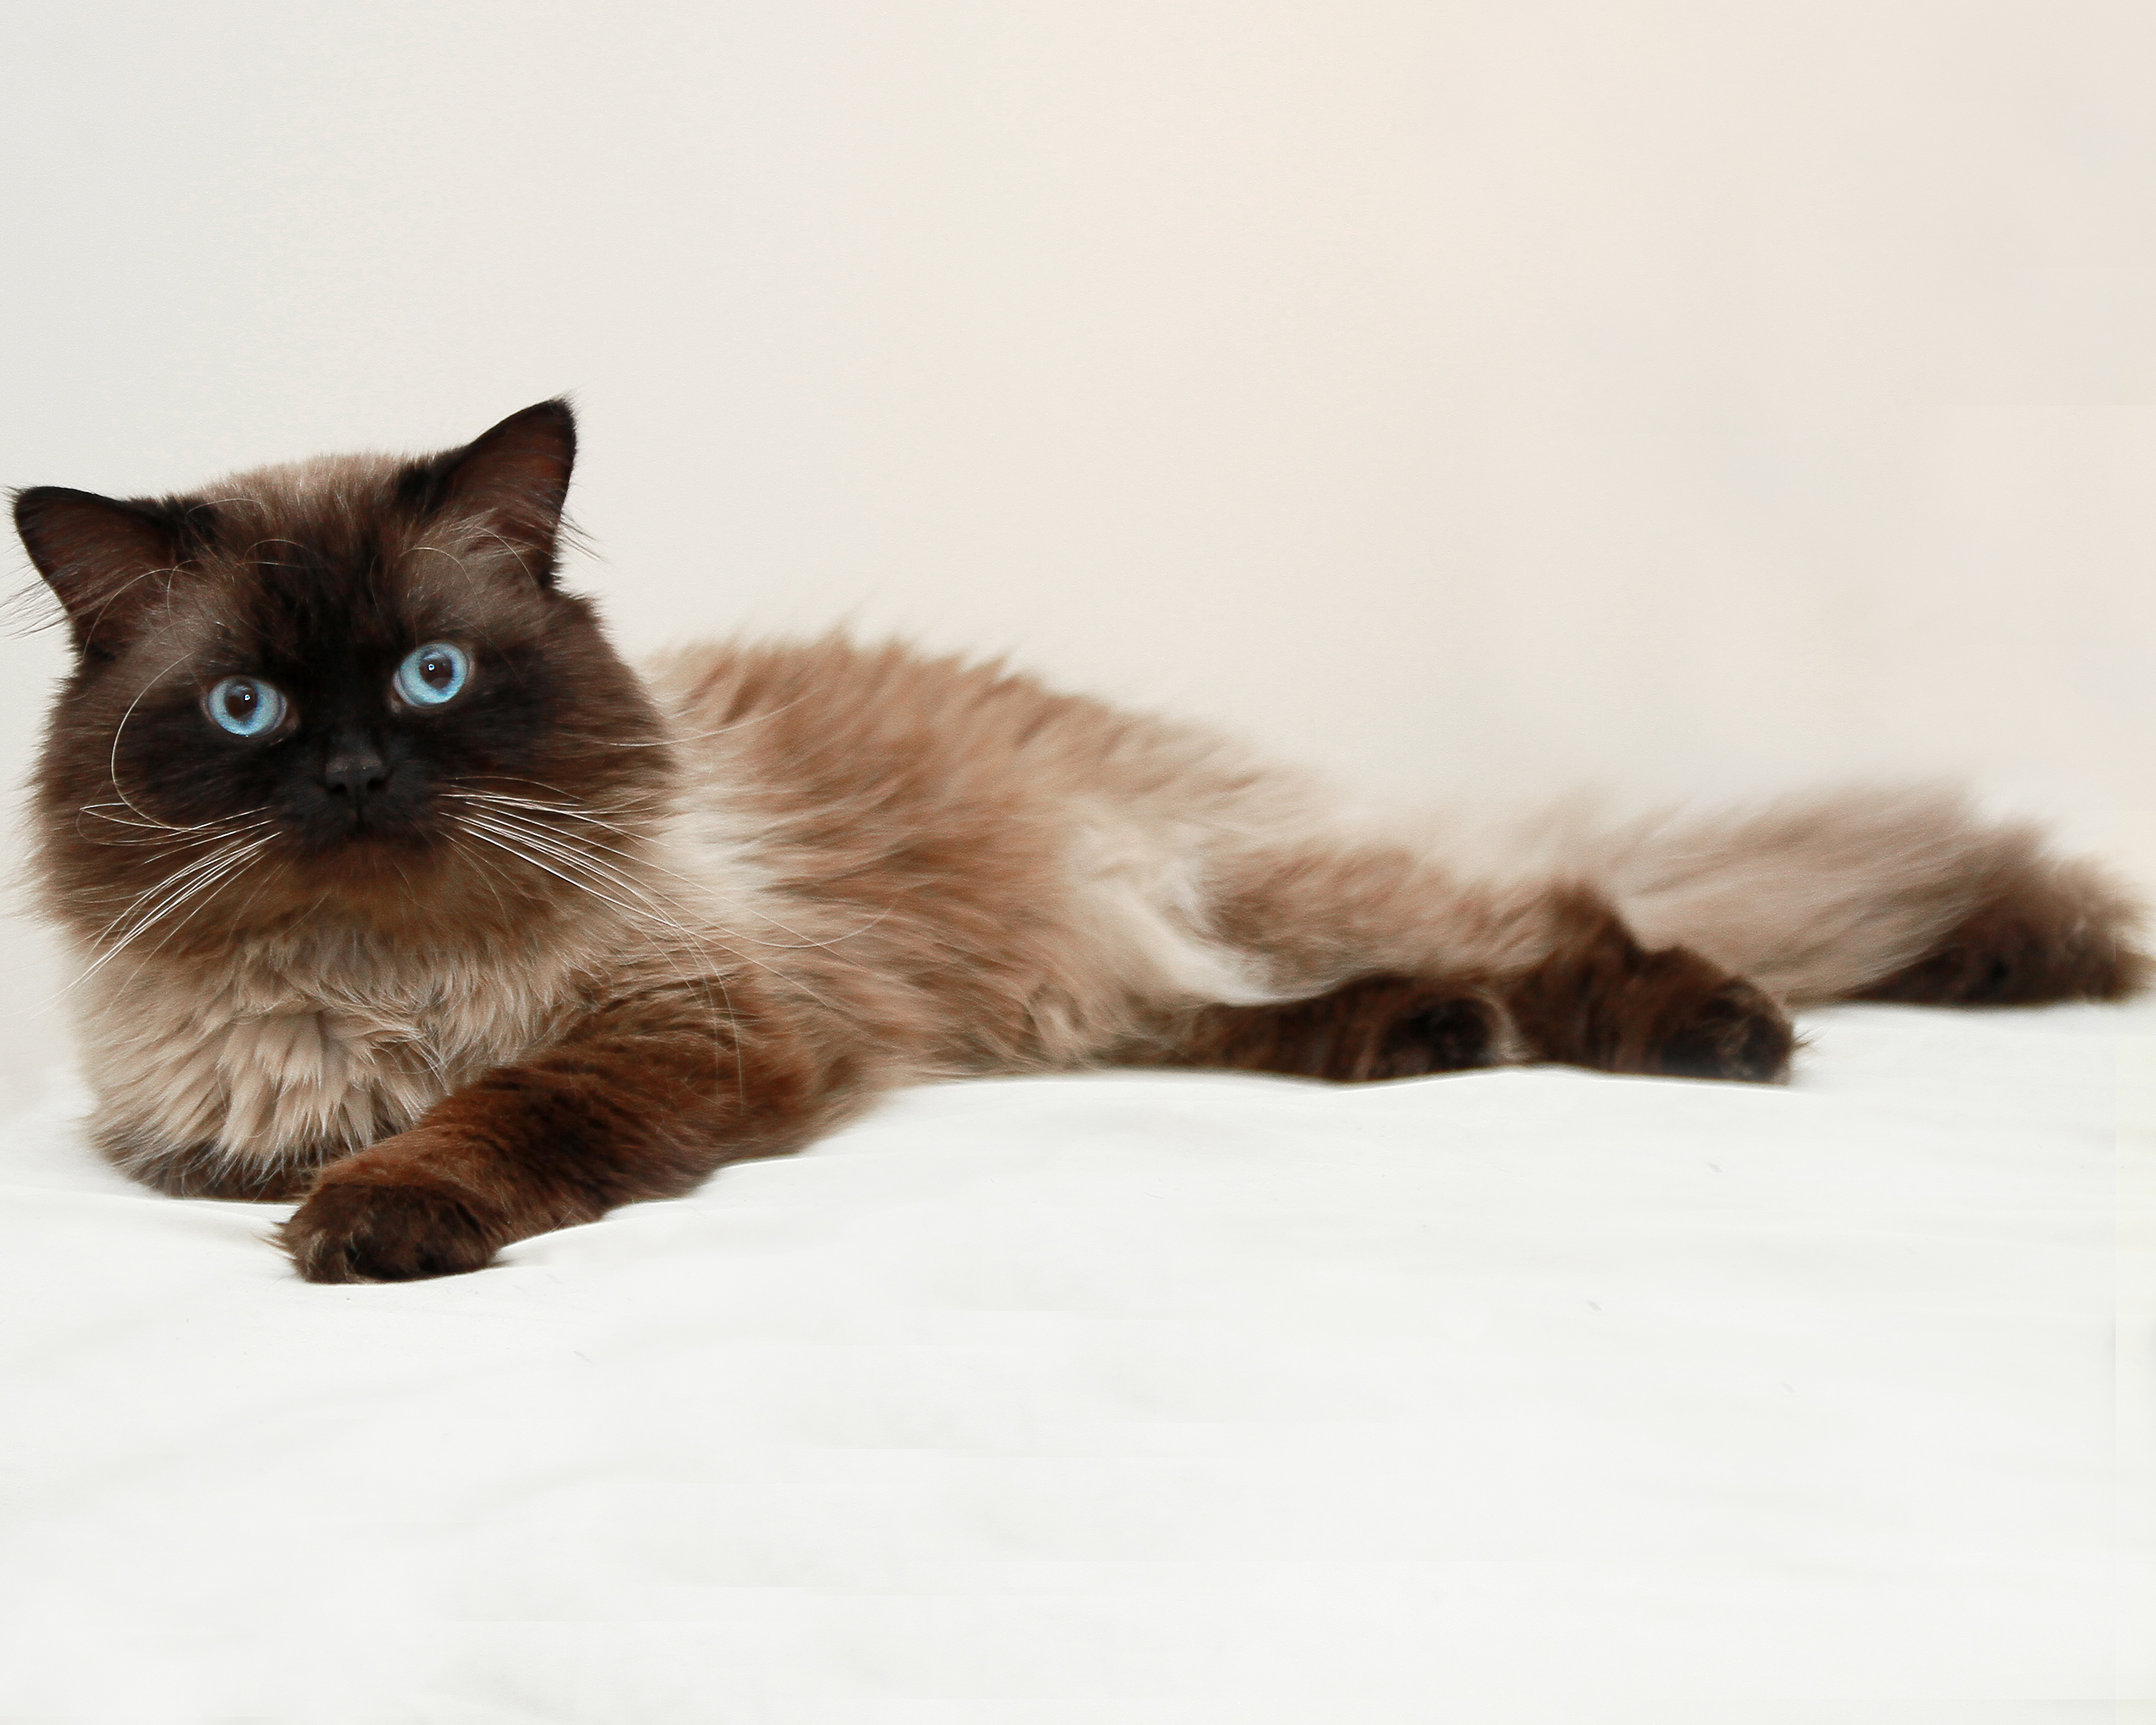cat: (0, 357, 2140, 1329)
